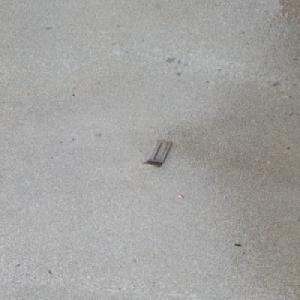MetalPart: (140, 139, 173, 167)
